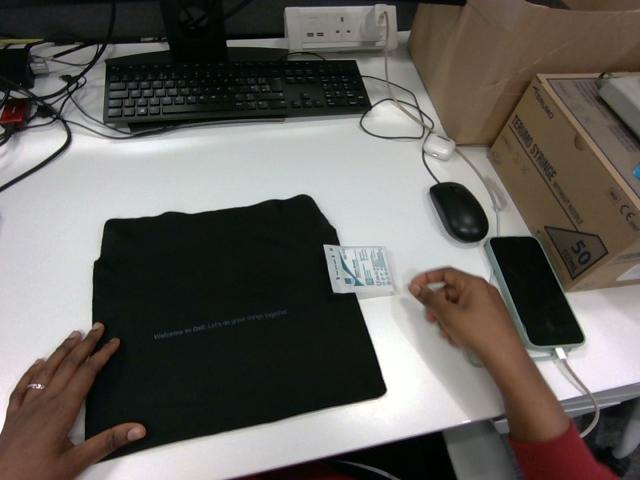gauze: (324, 244, 393, 297)
